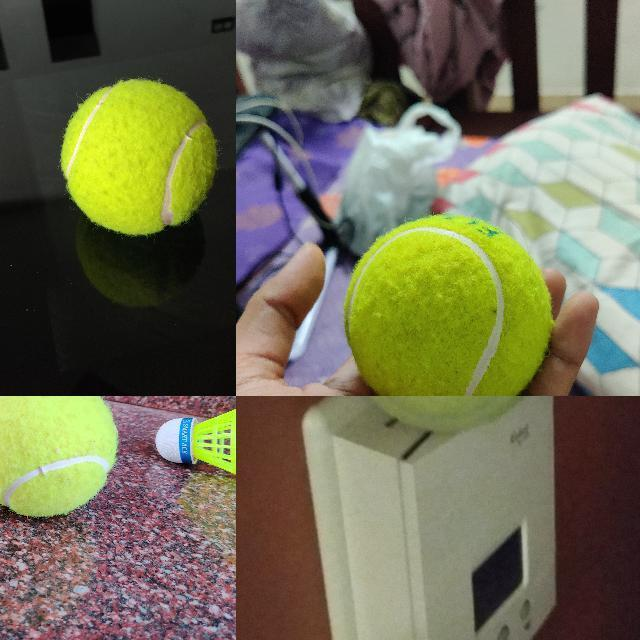tennis-ball: (342, 213, 556, 395), (59, 77, 218, 236), (0, 396, 118, 517)
